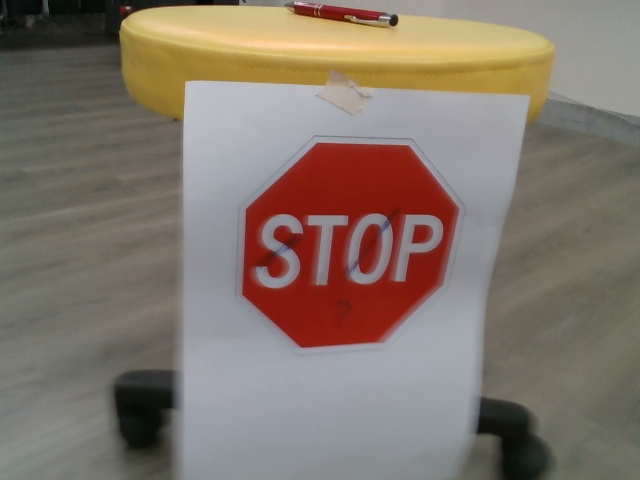stop: (235, 132, 467, 357)
